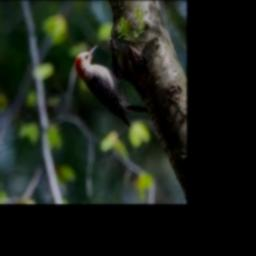Woodpecker: (76, 43, 149, 126)
